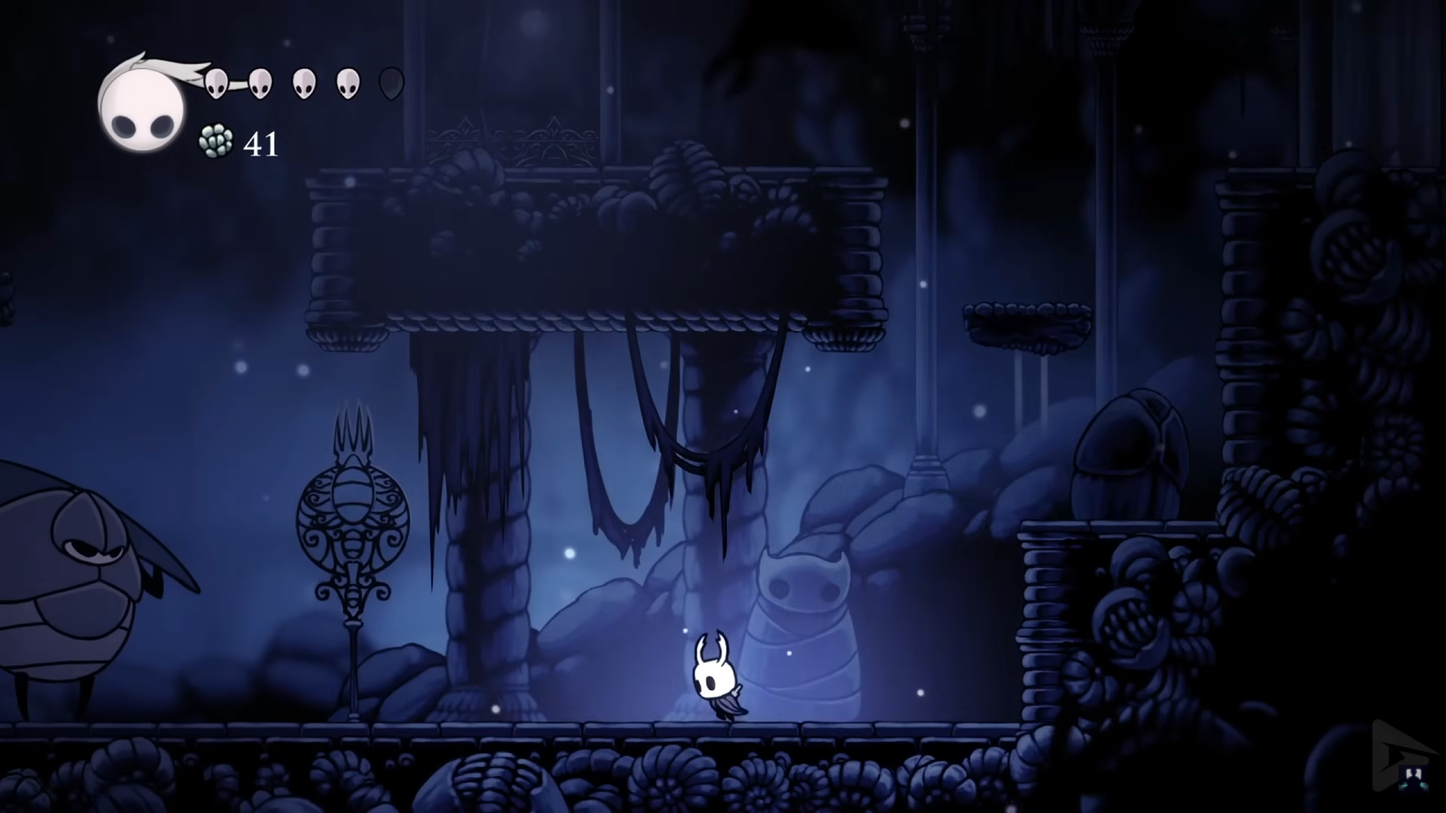HK: (685, 629, 749, 724)
